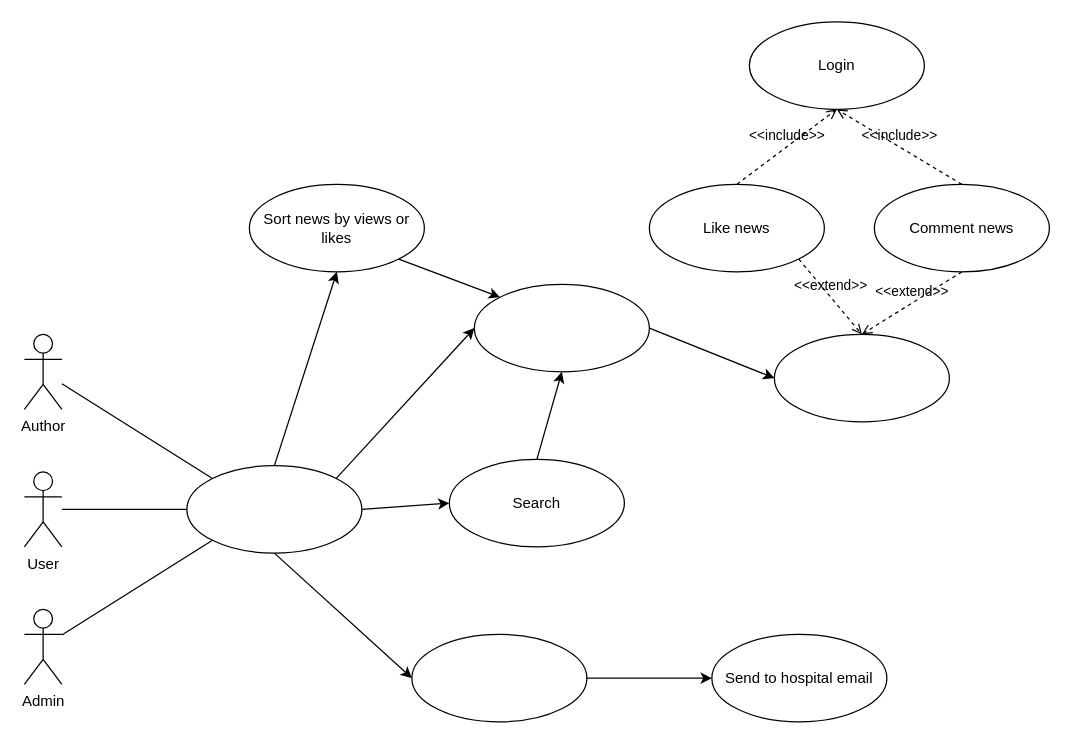
Image size: 1071x744. Some labels were removed from this diagram. Here are the shapes that lost their labels. From the top down, the centre of each, then its label:
At point 561,327: "Pick news to see".
At point 861,377: "Watch news".
At point 274,508: "Pick news topic".
At point 499,677: "Send Feedback".
